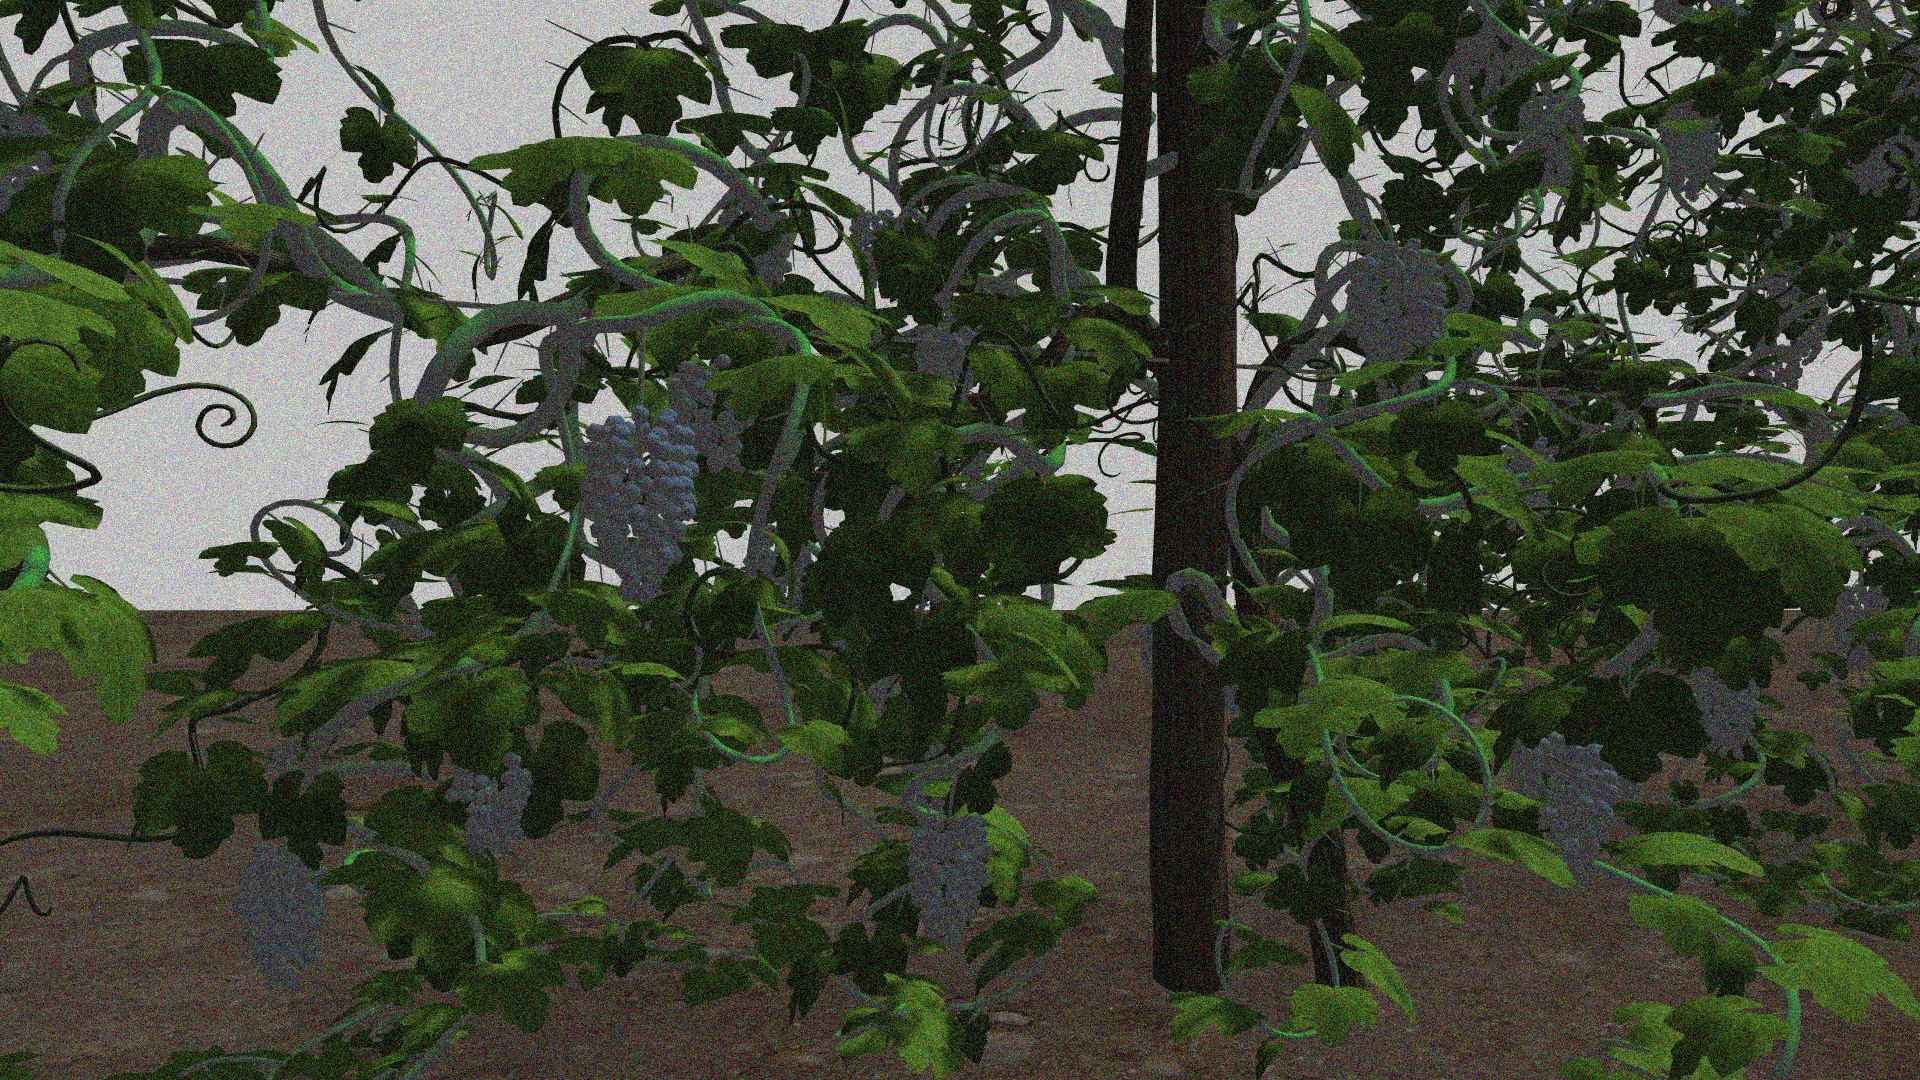grape: (584, 407, 698, 609), (233, 833, 331, 989), (1528, 727, 1625, 884), (1344, 237, 1451, 368), (905, 814, 994, 949), (670, 356, 756, 471), (444, 756, 534, 858), (1687, 655, 1767, 760), (1659, 94, 1725, 203), (1516, 88, 1586, 186), (1830, 582, 1894, 676), (911, 319, 975, 386)
